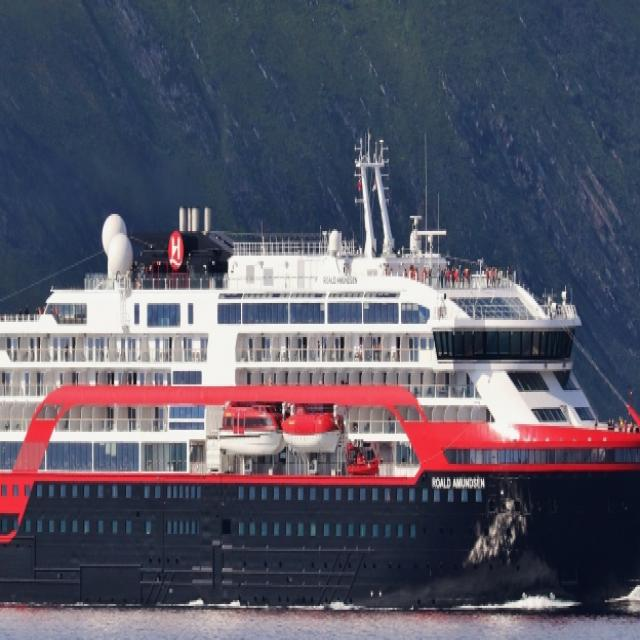cruises: (1, 126, 640, 630)
